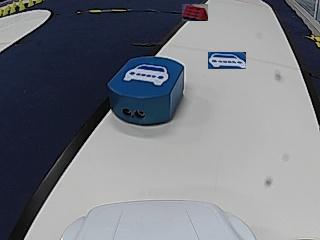safety: (124, 63, 170, 86)
